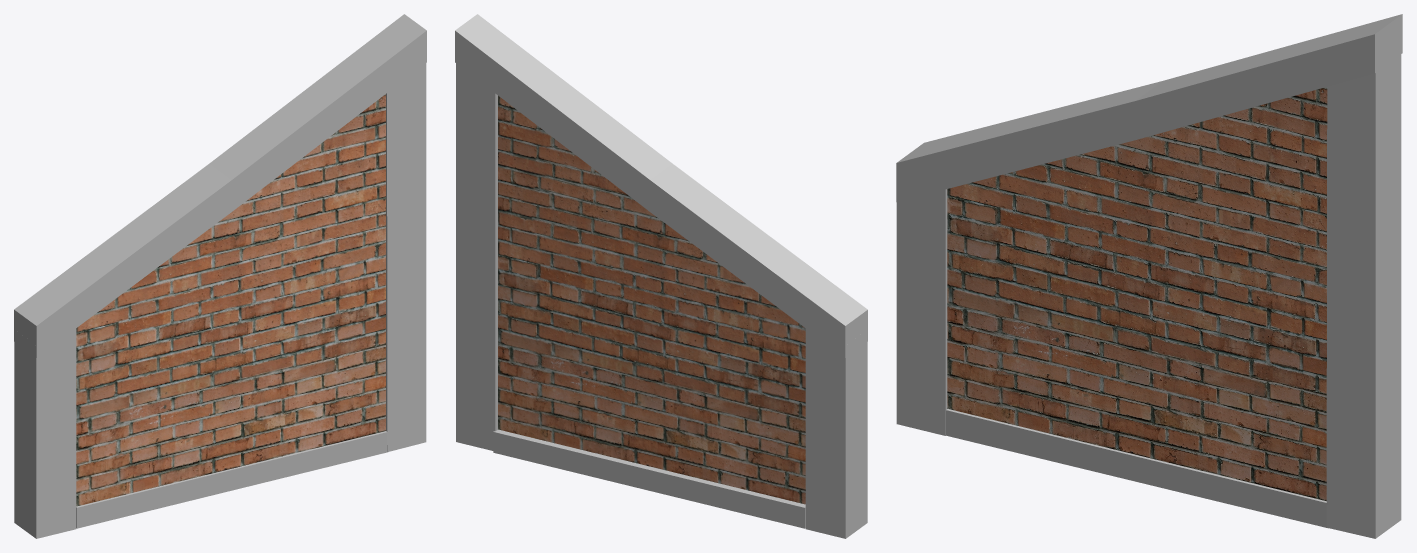
Rendered from HouseHalfBrickWall_LowPitchAngleMir_UPPER.fbx.
3 views of the same model, side by side, from view 1: azimuth 30°, elevation 25°; view 2: azimuth 150°, elevation 25°; view 3: azimuth 330°, elevation 25° (orthographic). The views are drawn at different scales.
Visible parts, largest first — view 1: polySurface1; view 2: polySurface1; view 3: polySurface1.
Boxes of the visible parts, x1,y1,x2,y2 form: polySurface1: [14, 14, 426, 538]; polySurface1: [455, 14, 867, 538]; polySurface1: [896, 14, 1402, 538].
Bounding box in the file's own units: 250 × 253 × 25.
